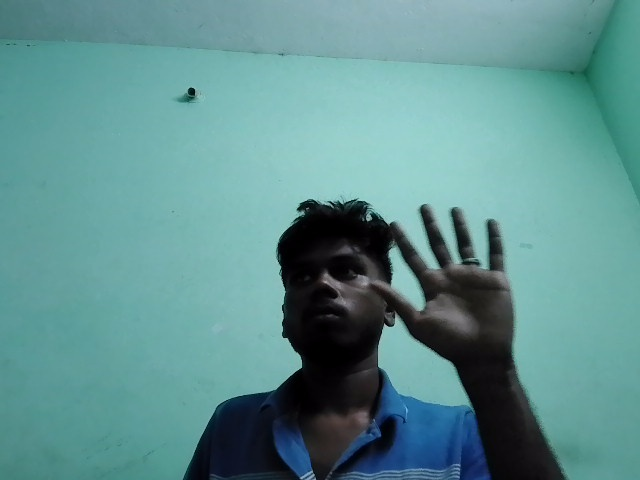Hello: (357, 194, 567, 387)
